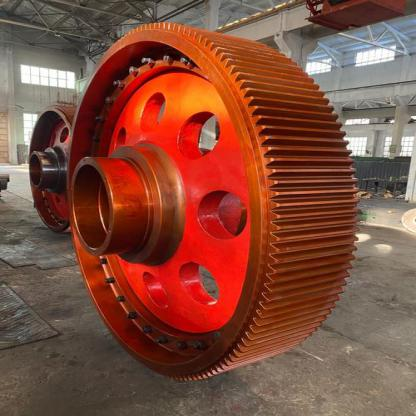FOD: (67, 13, 361, 382)
